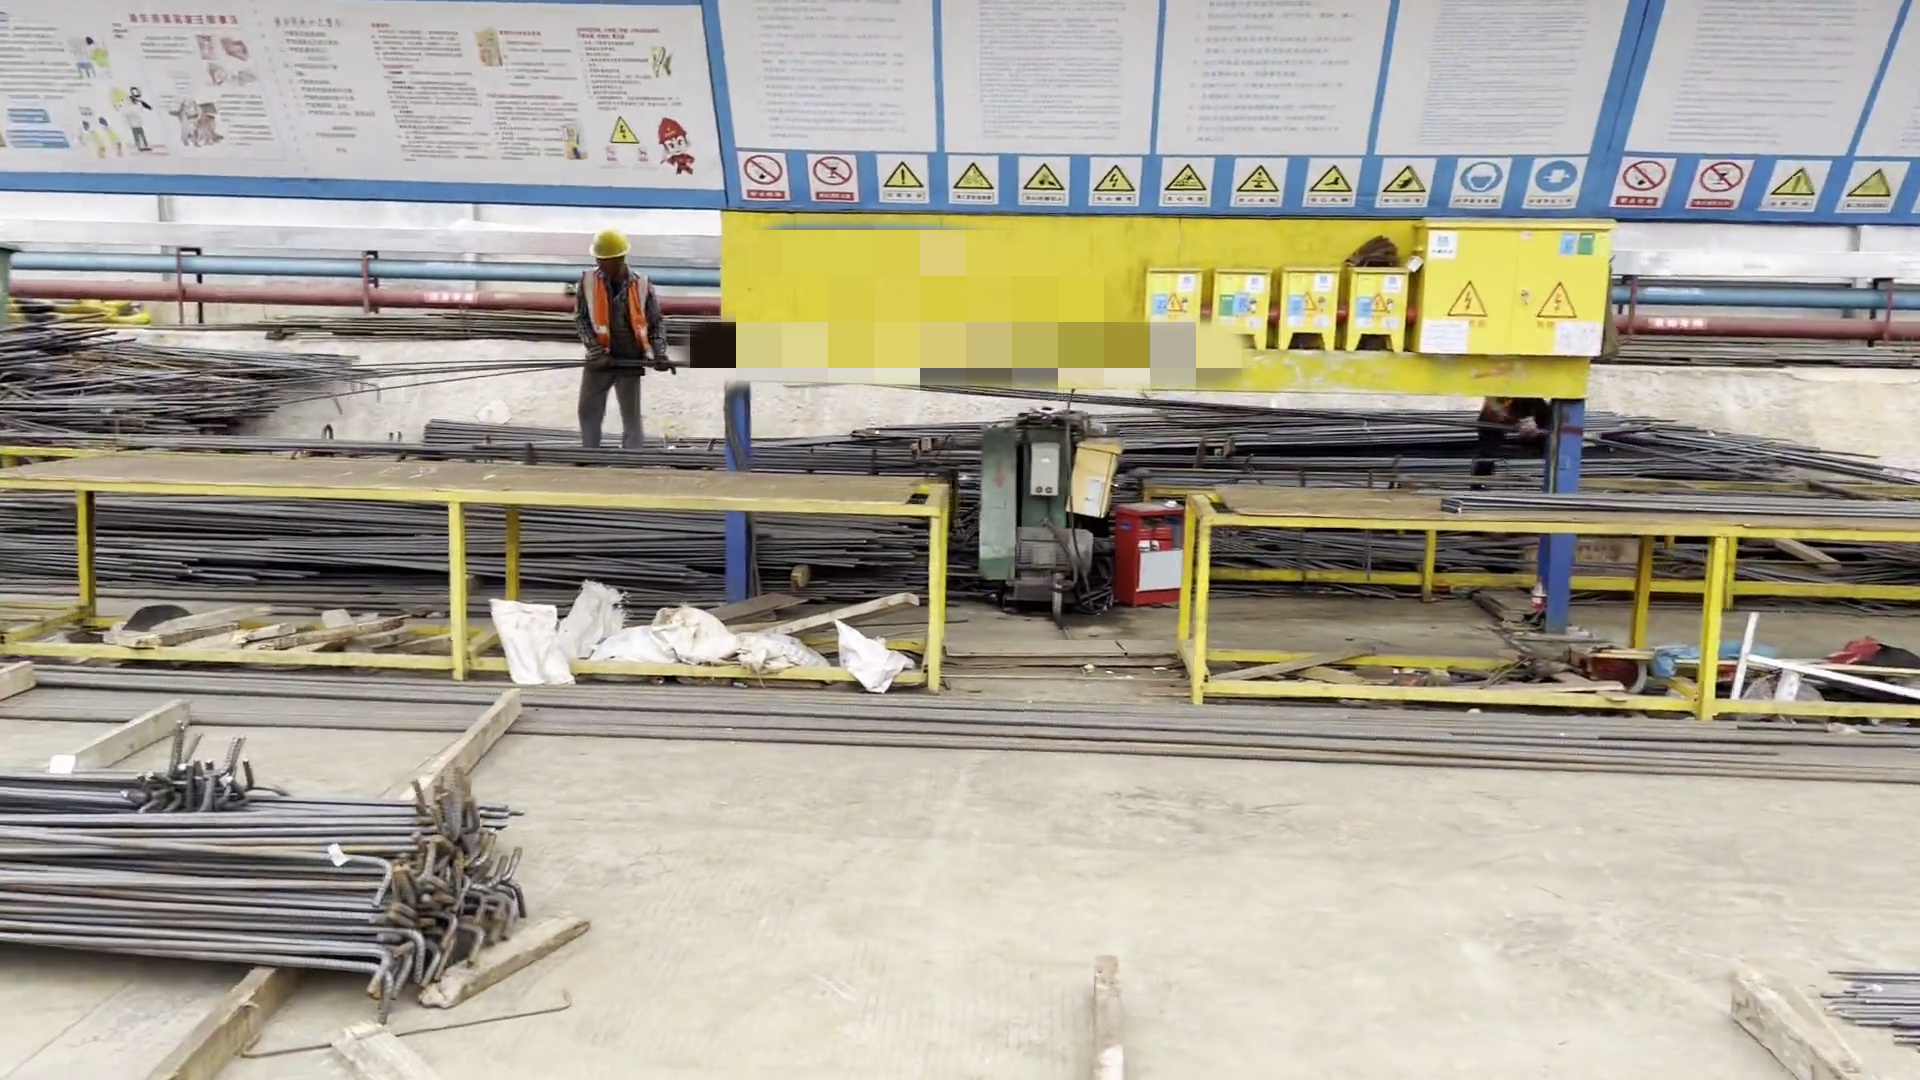ebox: (1407, 204, 1608, 382)
helmet: (589, 230, 629, 260)
person: (567, 224, 677, 454)
rebar: (1, 754, 558, 1007)
vest: (578, 263, 656, 365)
